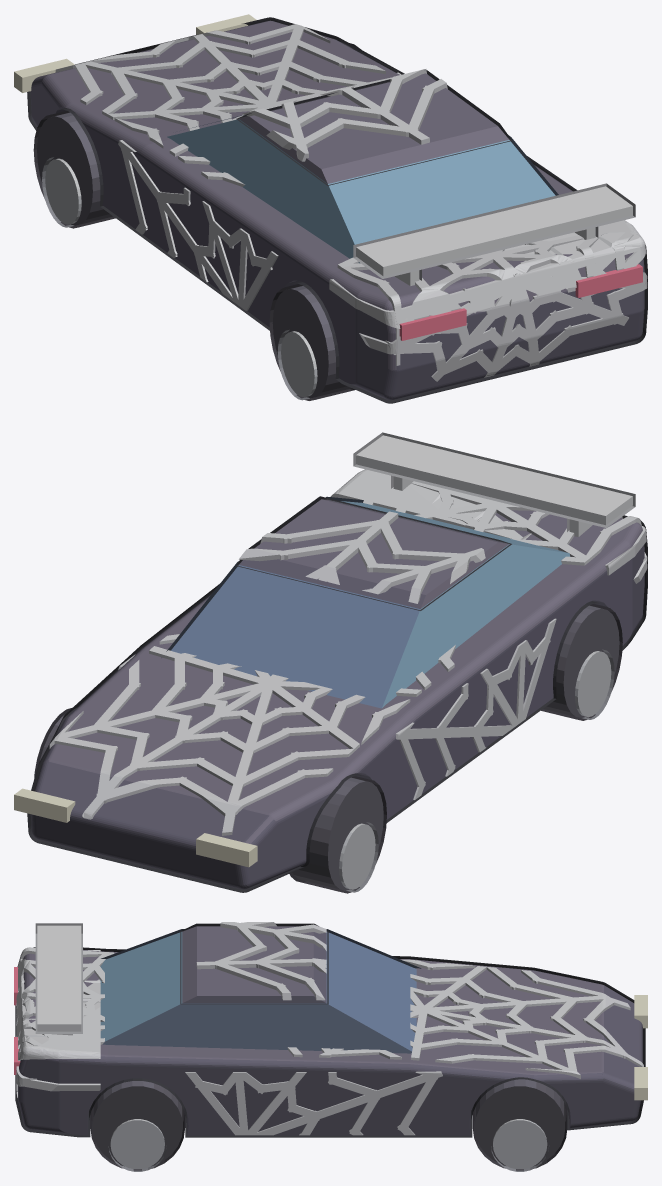
Rendered from car_stinger_1.glb.
The picture shows the model from 3 angles, top to bottom: view 1: azimuth 30°, elevation 25°; view 2: azimuth 150°, elevation 25°; view 3: azimuth 270°, elevation 25°; orthographic projection. The views are drawn at different scales.
Visible parts, largest first — view 1: car; view 2: car; view 3: car.
Part boxes in pixels (x1,y1,x2,y2): car: (14, 14, 647, 403); car: (14, 432, 647, 893); car: (14, 922, 647, 1171).
Size of the model in its own units: 2.05 by 1.24 by 4.61.
